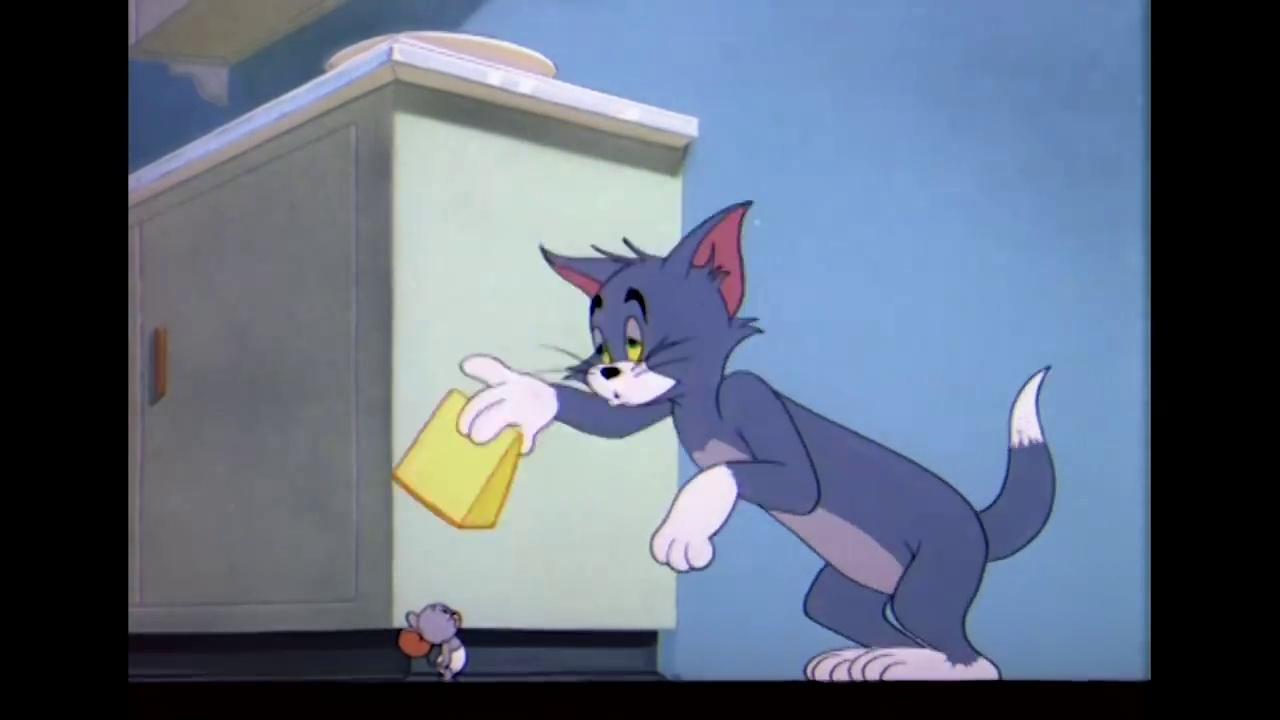tom: (536, 201, 763, 426)
